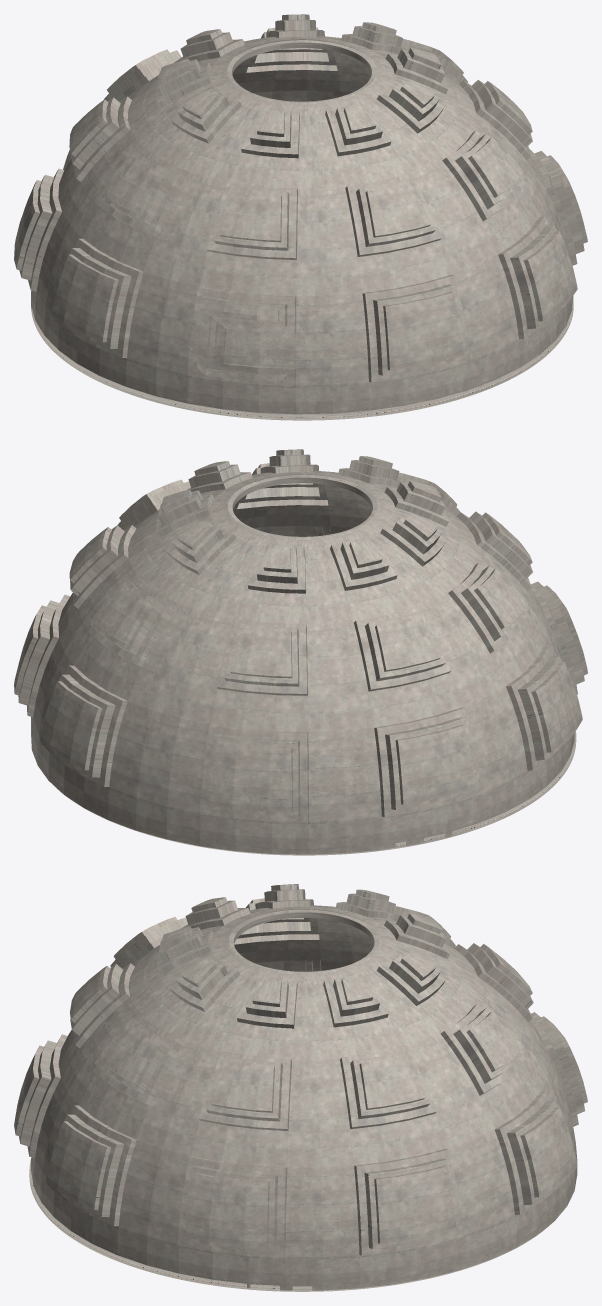
Rendered from Environment_MarbleDome_White.glb.
3 views of the same model, one above another, from view 1: azimuth 30°, elevation 25°; view 2: azimuth 150°, elevation 25°; view 3: azimuth 270°, elevation 25° (orthographic).
Parts seen in each view (by area): view 1: Sphere.001, Cylinder.010, Cylinder.011; view 2: Sphere.001, Cylinder.011, Cylinder.010; view 3: Sphere.001, Cylinder.010, Cylinder.011.
Boxes of the visible parts, bbox=[...] form: Sphere.001: bbox=[14, 14, 587, 414]; Cylinder.010: bbox=[31, 295, 573, 420]; Cylinder.011: bbox=[227, 40, 376, 102]; Sphere.001: bbox=[14, 449, 587, 854]; Cylinder.011: bbox=[228, 474, 377, 537]; Cylinder.010: bbox=[55, 731, 576, 855]; Sphere.001: bbox=[14, 884, 587, 1290]; Cylinder.010: bbox=[29, 1158, 548, 1291]; Cylinder.011: bbox=[229, 909, 379, 972].
Bounding box in the file's own units: 47.06 × 21.95 × 46.87.
Materials: 3 (3 with a texture image).
